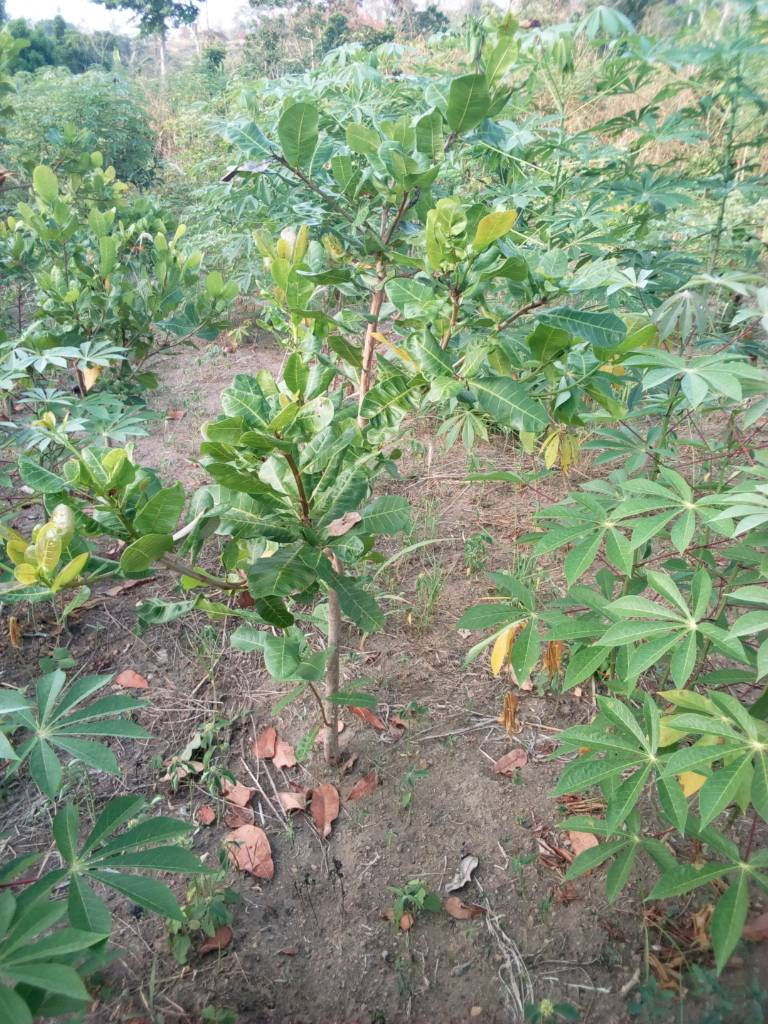Helopeltis anacardii: (243, 536, 318, 596)
